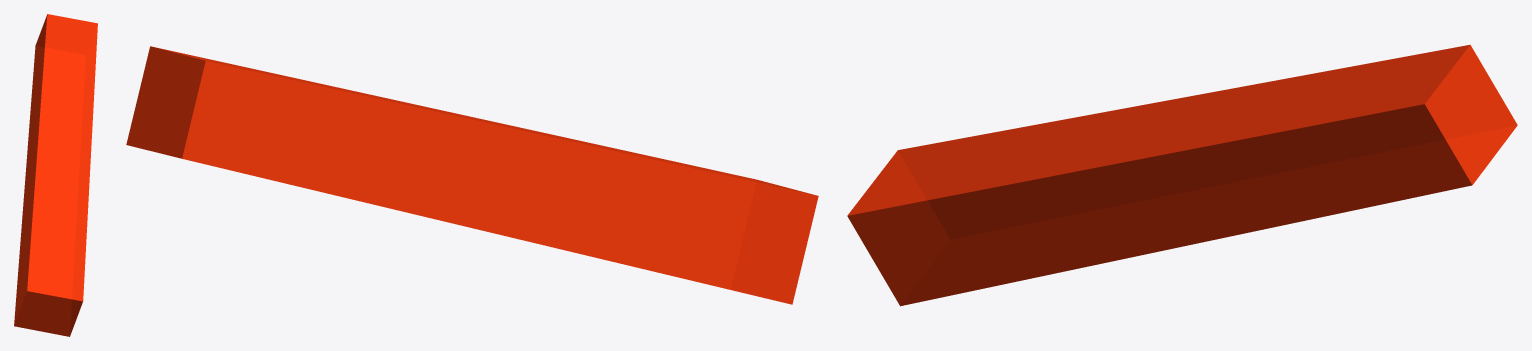
Rendered from Event_421115418_EBrechit_7.fbx.
3 renders of one model, left to right at view 1: azimuth 30°, elevation 25°; view 2: azimuth 150°, elevation 25°; view 3: azimuth 270°, elevation 25°, orthographic. The views are drawn at different scales.
Visible parts, largest first — view 1: Model; view 2: Model; view 3: Model.
Boxes of the visible parts, <box> form: Model: <box>14,14,97,336</box>; Model: <box>126,46,818,304</box>; Model: <box>847,44,1517,306</box>.
Size of the model in its own units: 0.2568 by 0.2294 by 0.3682.
